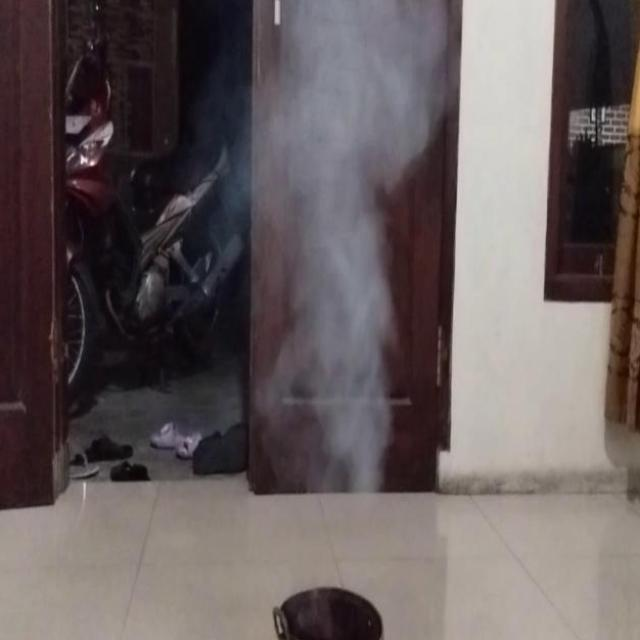fire: (196, 0, 470, 213), (256, 192, 402, 554)
